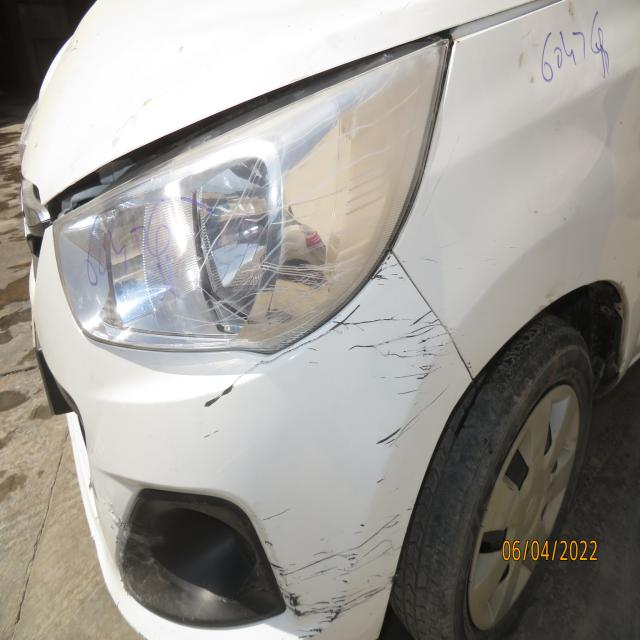damage: (180, 59, 417, 336), (190, 226, 460, 457), (259, 470, 424, 640), (576, 82, 634, 189), (100, 494, 127, 558)
